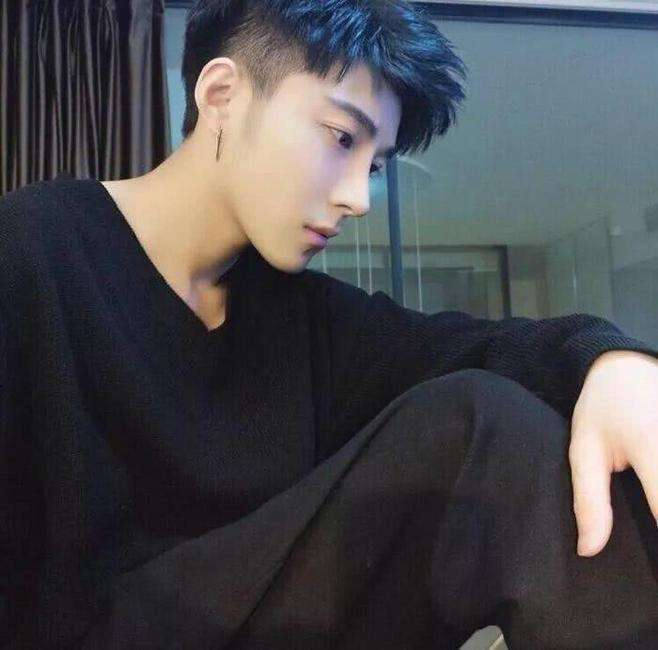person: (31, 1, 557, 621)
